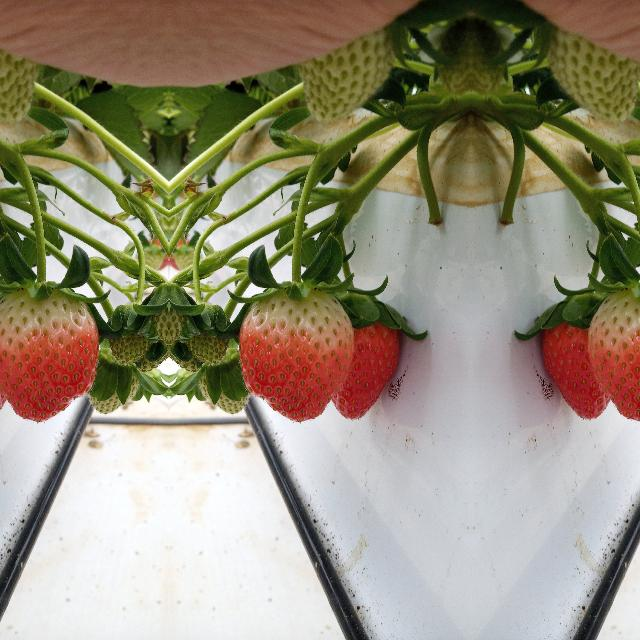Health_100: (237, 287, 355, 423), (0, 287, 99, 423), (322, 289, 410, 417), (532, 289, 618, 417), (586, 287, 640, 423)
Health_25: (296, 26, 398, 130), (543, 26, 640, 130), (0, 26, 39, 130)
